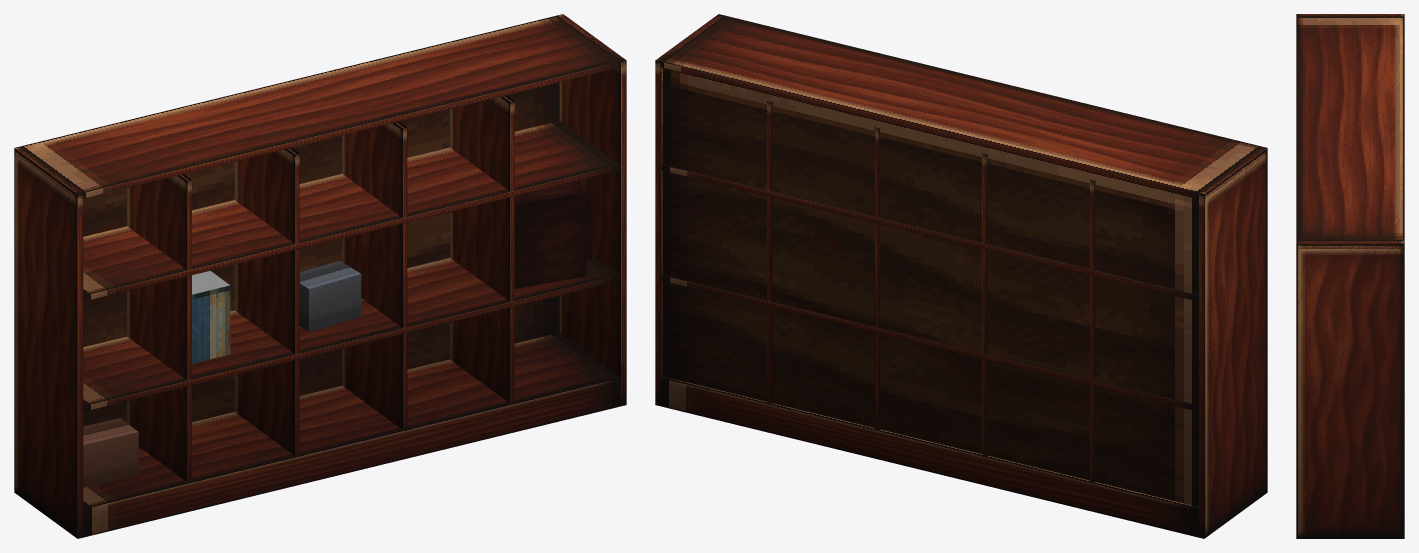
Rendered from prop_lockerrow-0.glb.
3 renders of one model, left to right at view 1: azimuth 30°, elevation 25°; view 2: azimuth 150°, elevation 25°; view 3: azimuth 270°, elevation 25°, orthographic. The views are drawn at different scales.
Parts seen in each view (by area): view 1: prop_lockerrow-0; view 2: prop_lockerrow-0; view 3: prop_lockerrow-0.
Boxes of the visible parts, x1,y1,x2,y2 form: prop_lockerrow-0: (14, 14, 626, 538); prop_lockerrow-0: (655, 14, 1267, 538); prop_lockerrow-0: (1296, 14, 1404, 538).
Bounding box in the file's own units: 2 × 1.2 × 0.4.
7 materials, 7 textured.
